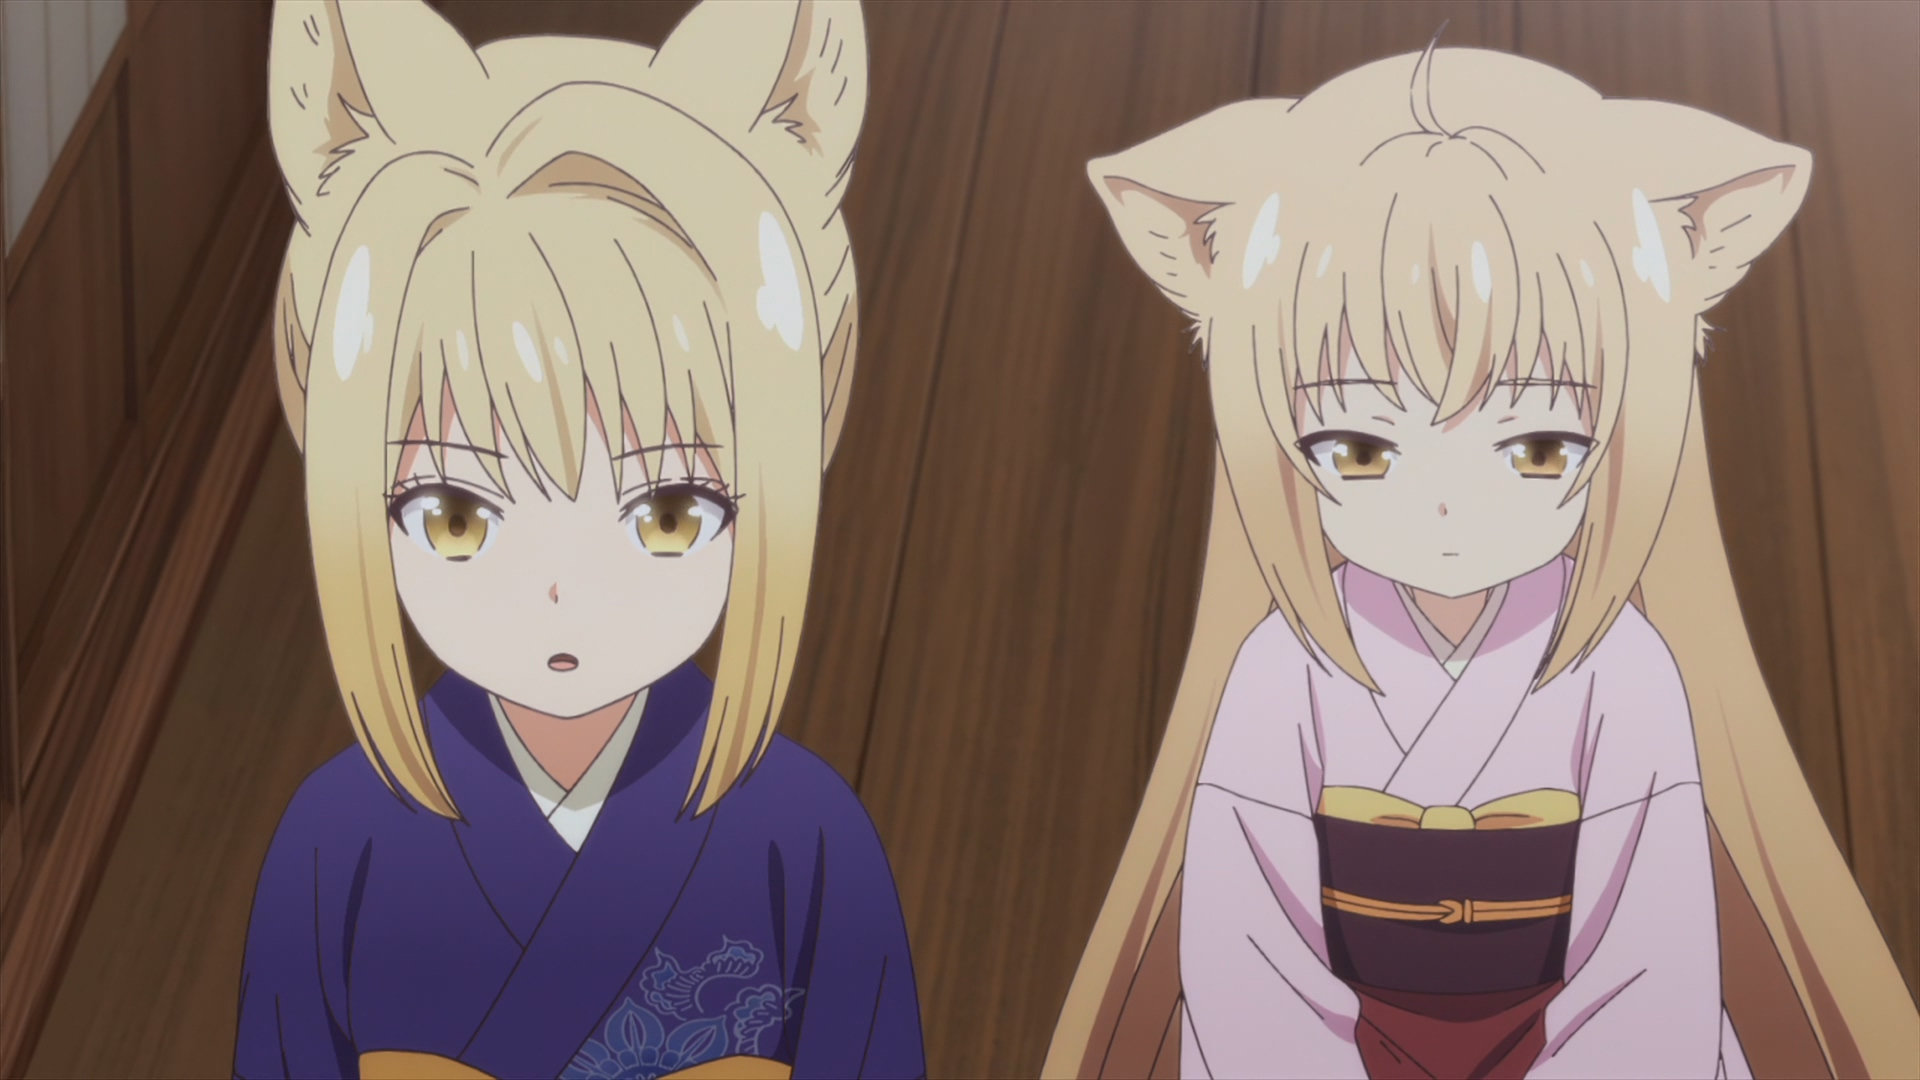柚: (1044, 13, 1920, 1080)
桐: (233, 1, 924, 1080)
